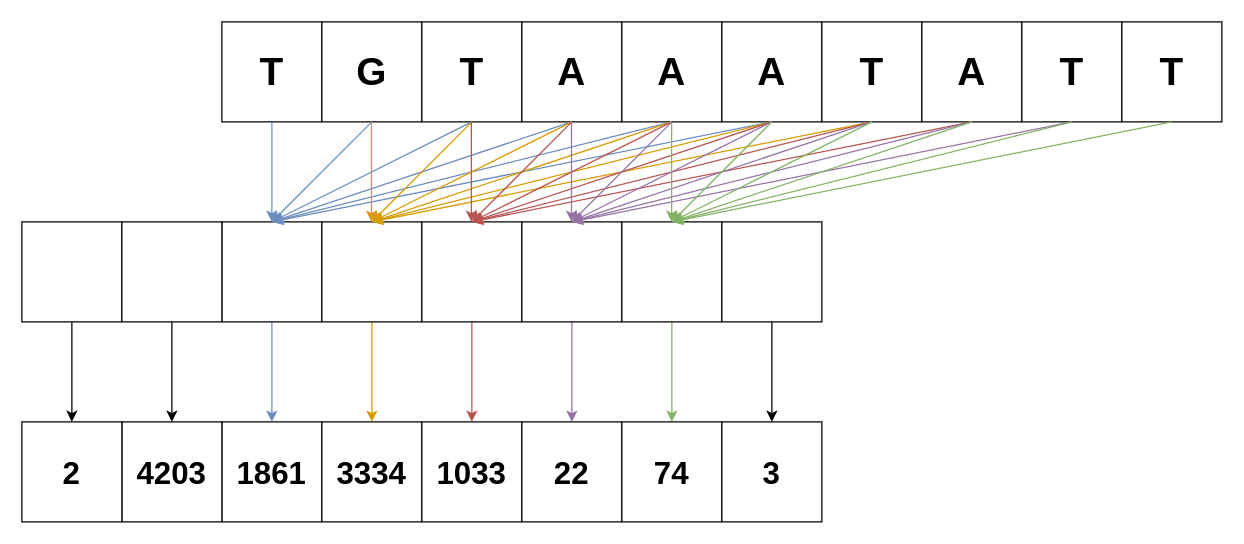
The diagram is 1244 pixels wide and 544 high, and some of its shapes have lost their labels. Here are the shapes that lost their labels. From the top down, the centre of each, then its label:
(x=71, y=271): [CLS]
(x=171, y=271): botrytis_ porri_gca_ 004786265
(x=271, y=271): TGTAAA
(x=371, y=271): GTAAAT
(x=471, y=271): TAAATA
(x=571, y=271): AAATAT
(x=671, y=271): AATATT
(x=771, y=271): [SEP]
